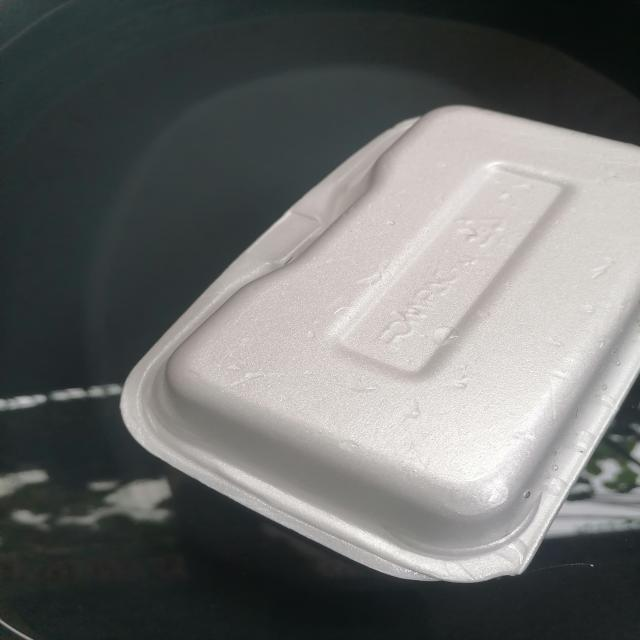Styrofoam Container: (121, 106, 640, 582)
